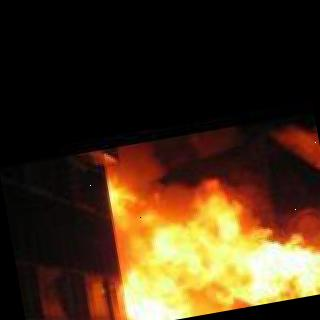fire: (90, 150, 320, 320)
